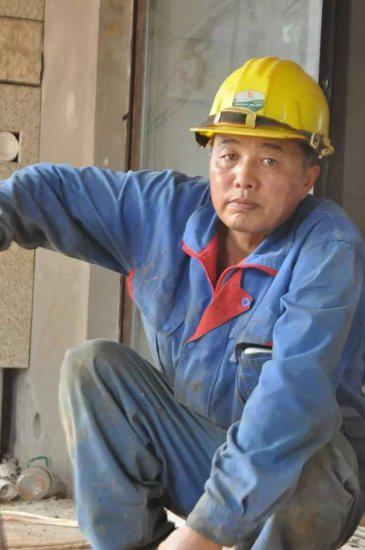helmet: (184, 55, 338, 236)
